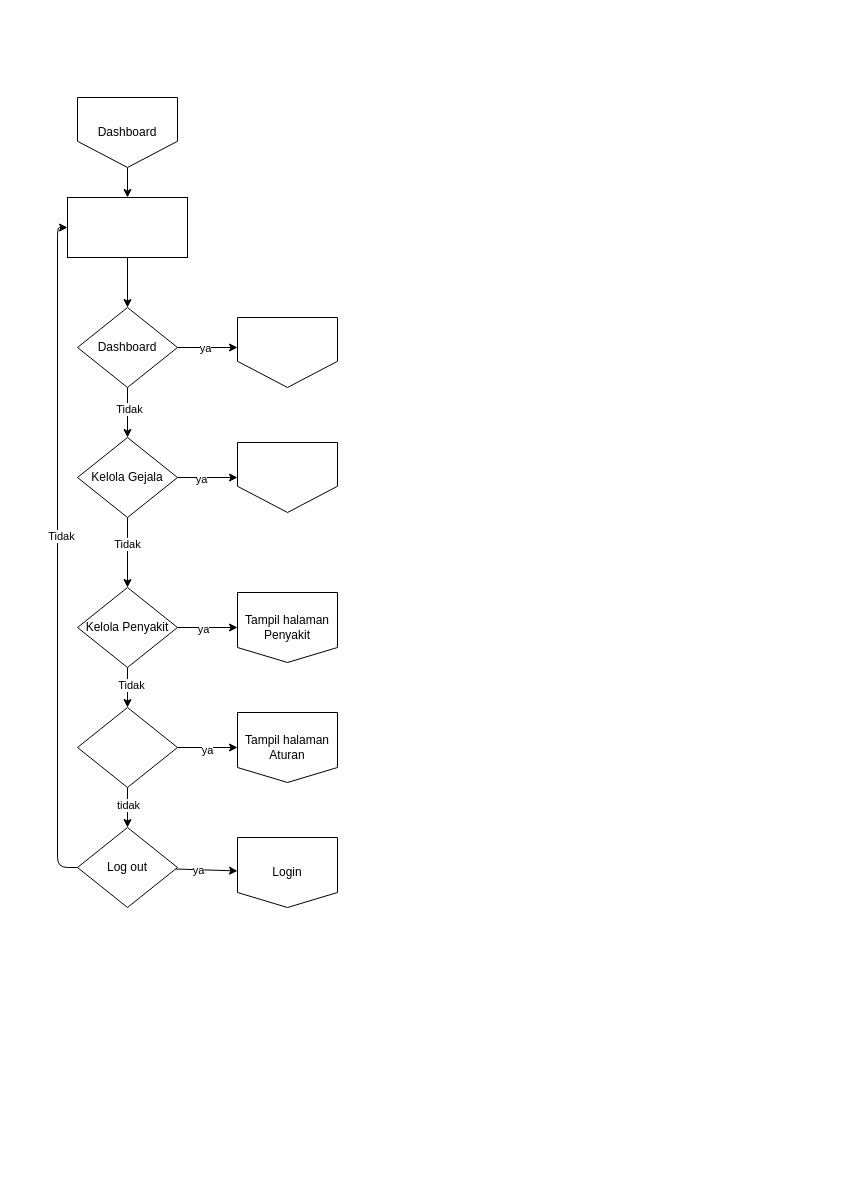
This 861x1203 diagram has some shape labels left out. The centre of each missing label's shape, as x and y in pixels:
"Kelola Aturan" belongs at point (127, 747).
"tampil halaman beranda admin" belongs at point (127, 227).
"Tampil halaman Dashboard" belongs at point (287, 352).
"Tampil halaman Gejala" belongs at point (287, 477).
